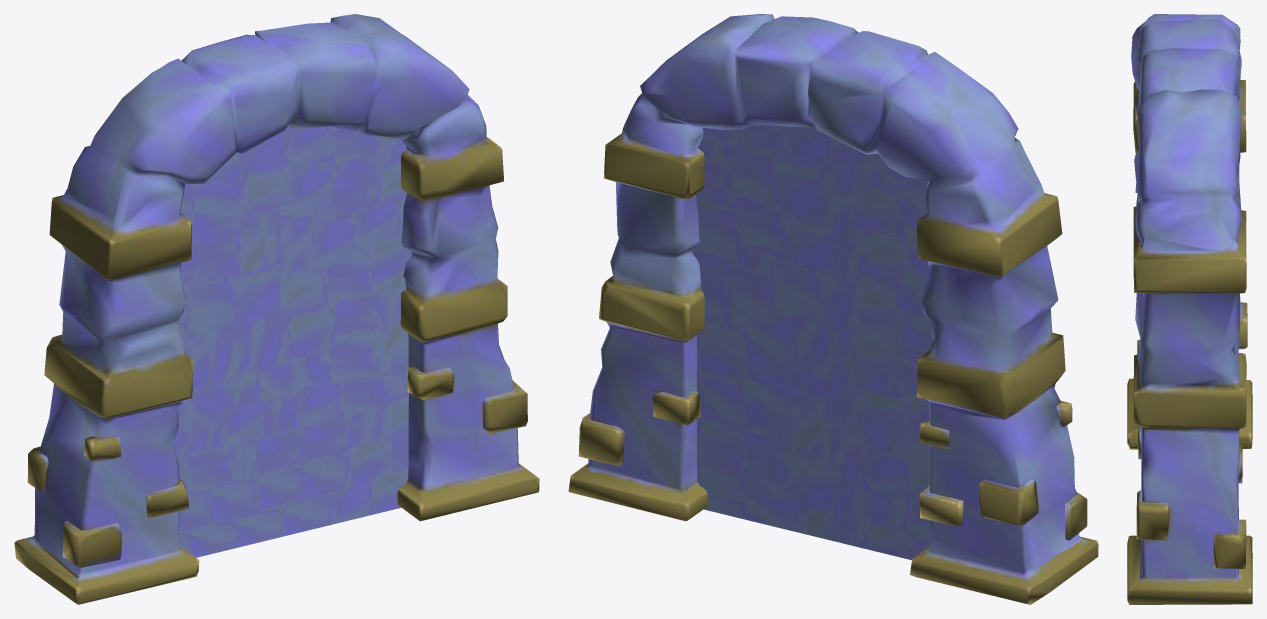
Rendered from breakableWallWholeCompressed.glb.
3 renders of one model, left to right at view 1: azimuth 30°, elevation 25°; view 2: azimuth 150°, elevation 25°; view 3: azimuth 270°, elevation 25°, orthographic. The views are drawn at different scales.
Visible parts, largest first — view 1: Cube.001; view 2: Cube.001; view 3: Cube.001.
Part boxes in pixels (box(x1,y1,x2,y2)): Cube.001: box(14, 14, 539, 604); Cube.001: box(568, 14, 1098, 604); Cube.001: box(1127, 14, 1252, 604).
Size of the model in its own units: 2 by 2 by 0.5.
Materials: 2 (2 with a texture image).
